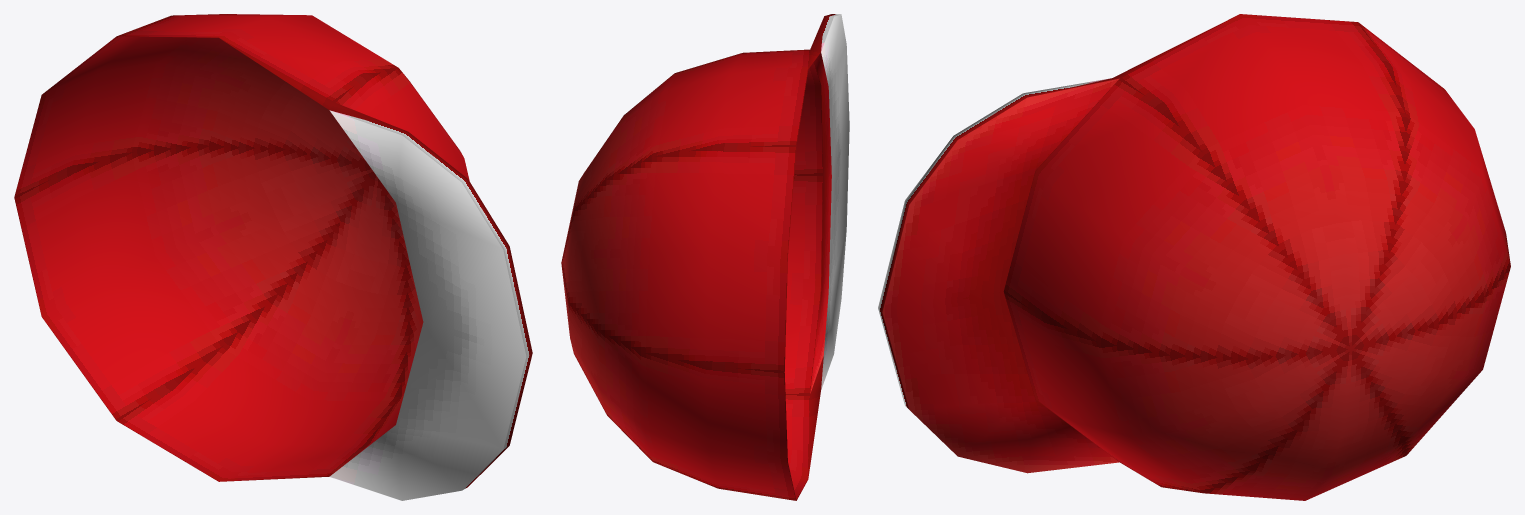
File: cap_cap_group_red.dae
3 renders of one model, left to right at view 1: azimuth 30°, elevation 25°; view 2: azimuth 150°, elevation 25°; view 3: azimuth 270°, elevation 25°, orthographic. The views are drawn at different scales.
Visible parts, largest first — view 1: cap_cap_group_red; view 2: cap_cap_group_red; view 3: cap_cap_group_red.
Part boxes in pixels (x1,y1,x2,y2): cap_cap_group_red: (14,14,532,500); cap_cap_group_red: (561,14,849,500); cap_cap_group_red: (878,14,1510,500).
Bounding box in the file's own units: 16.08 × 21.14 × 26.58.
Materials: 1 (1 with a texture image).
